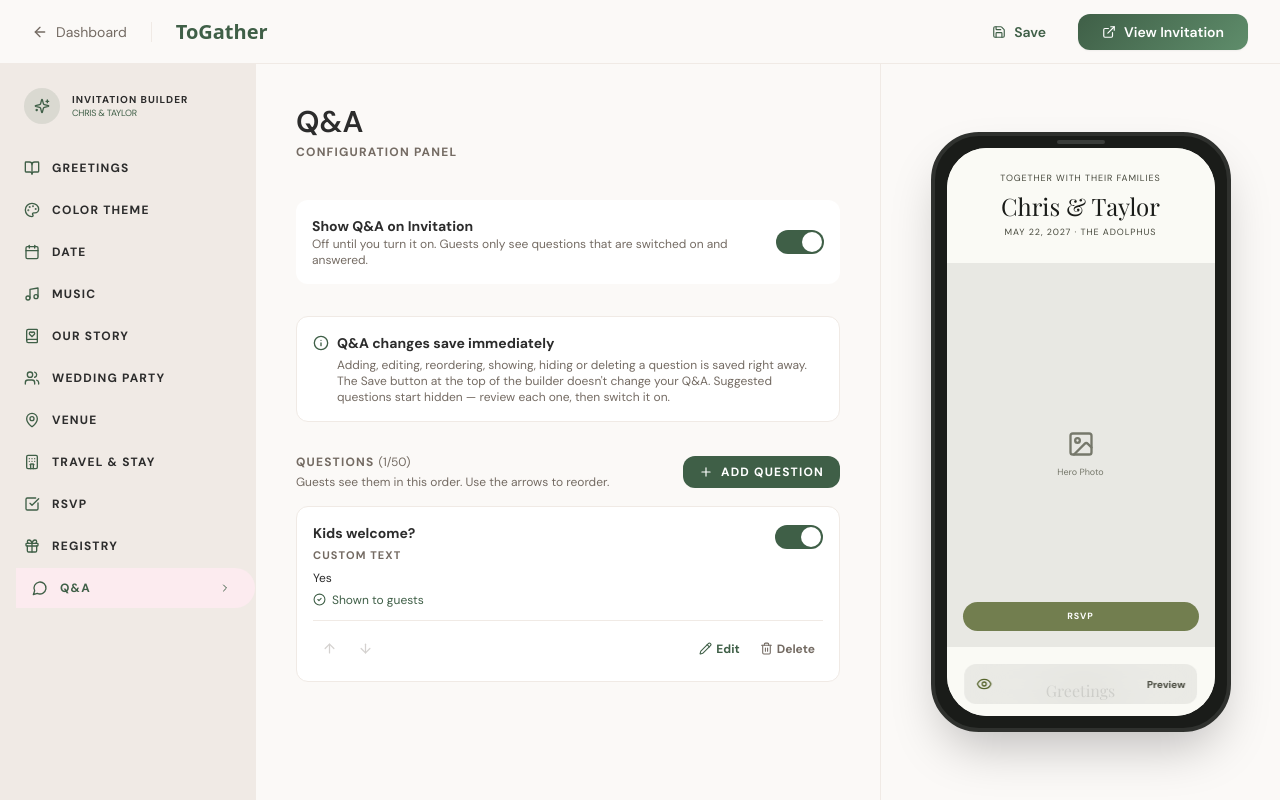
Scenario: Q&A — custom questions › deletes after confirmation
The image size is (1280, 800).
Expected: the element that starts with "Q&A" is shown, [256,64,880,799]
Click the button named "Delete \"Kids welcome?\"" at (787, 648), box [752,636,823,660]
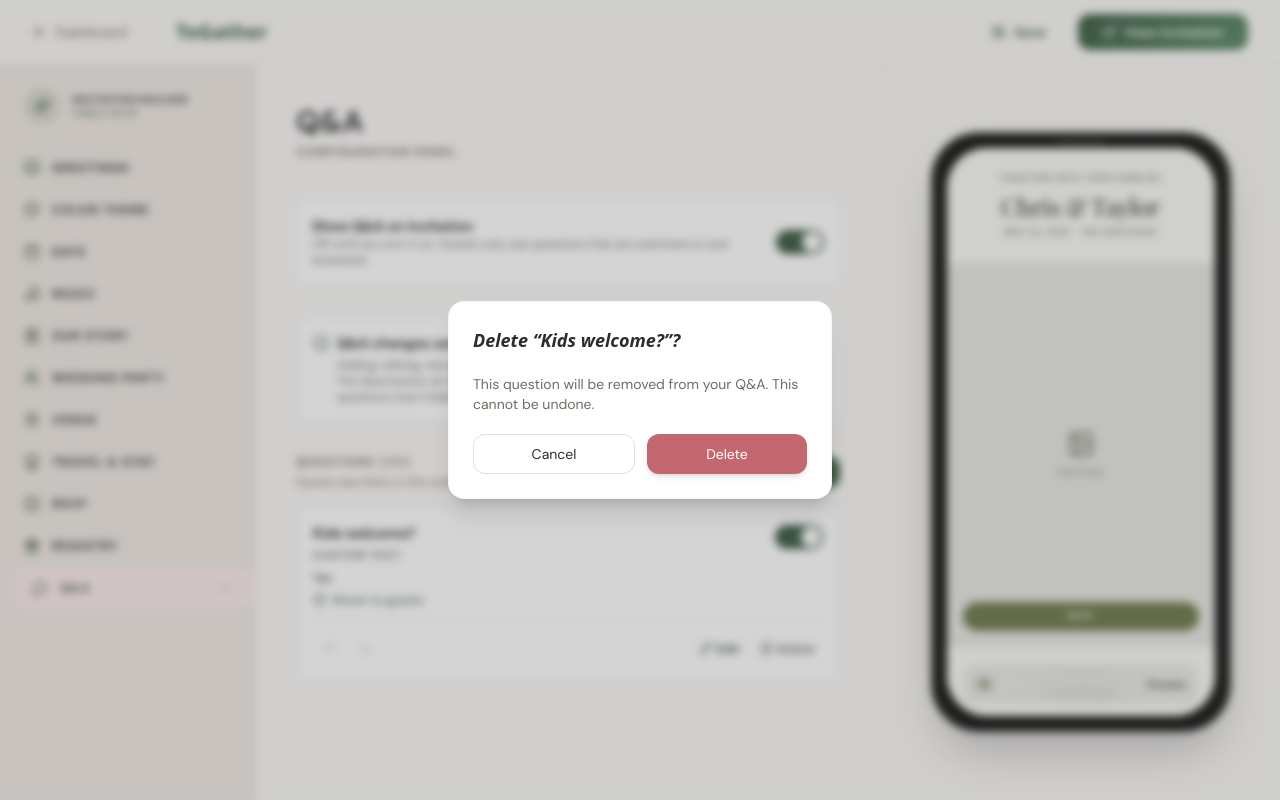
Click the button "Cancel" at (554, 454), box [473,434,635,474]
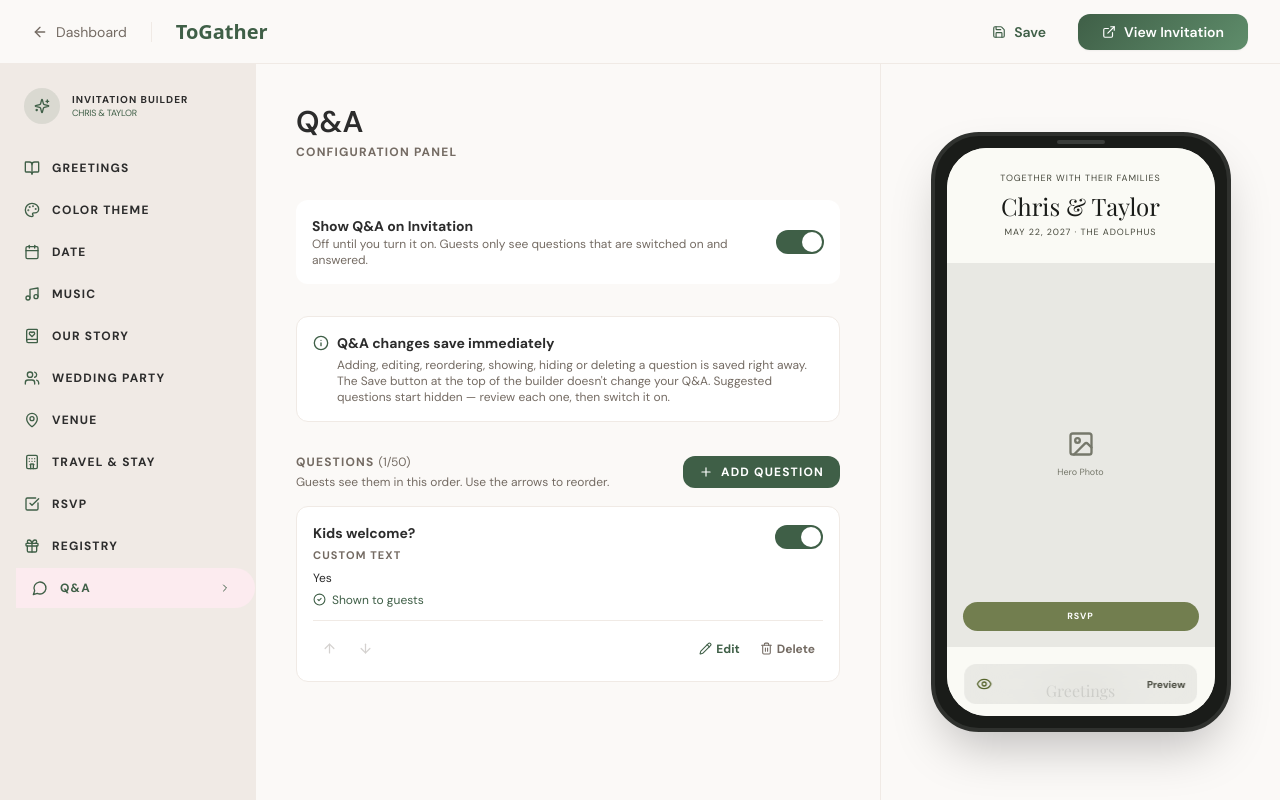
Click the button named "Delete \"Kids welcome?\"" at (787, 648), box [752,636,823,660]
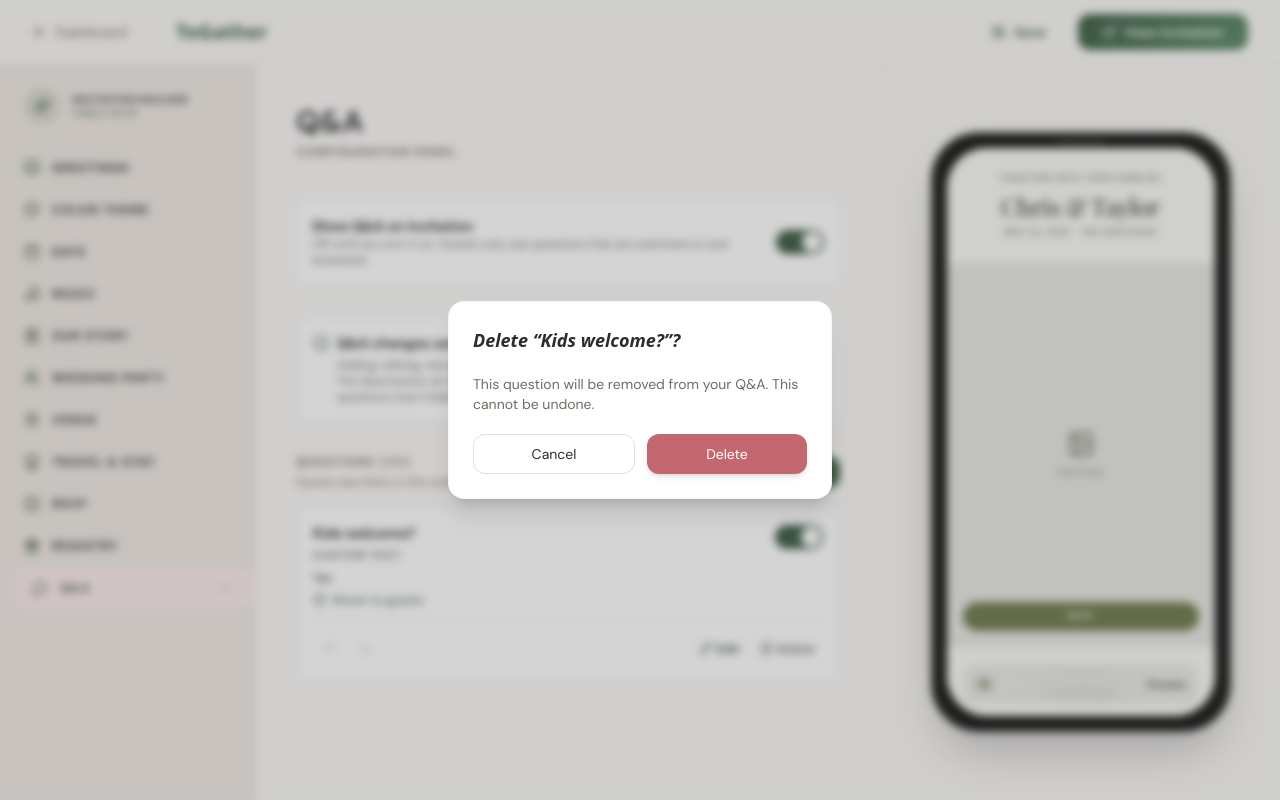
Click the button "Delete" at (727, 454), box [647,434,807,474]
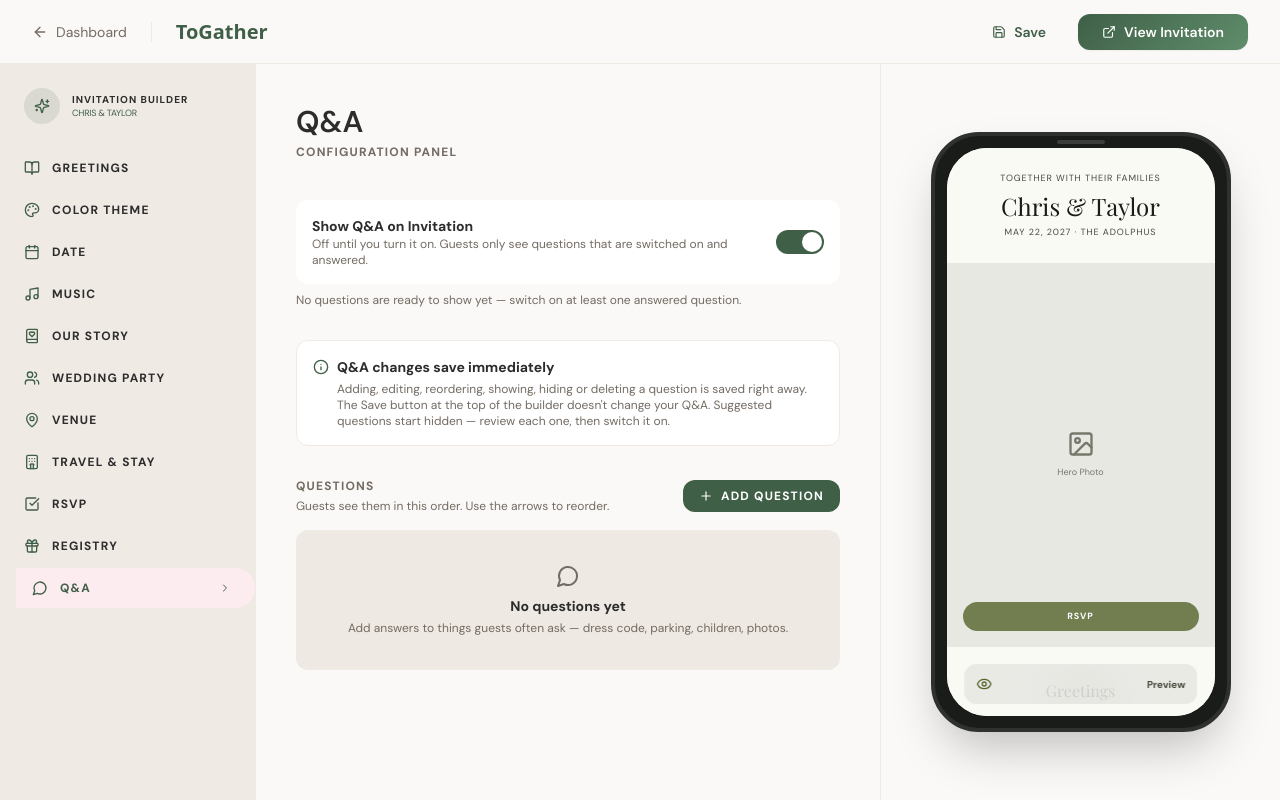
Now no elements with test id "qa-question-row" are shown
